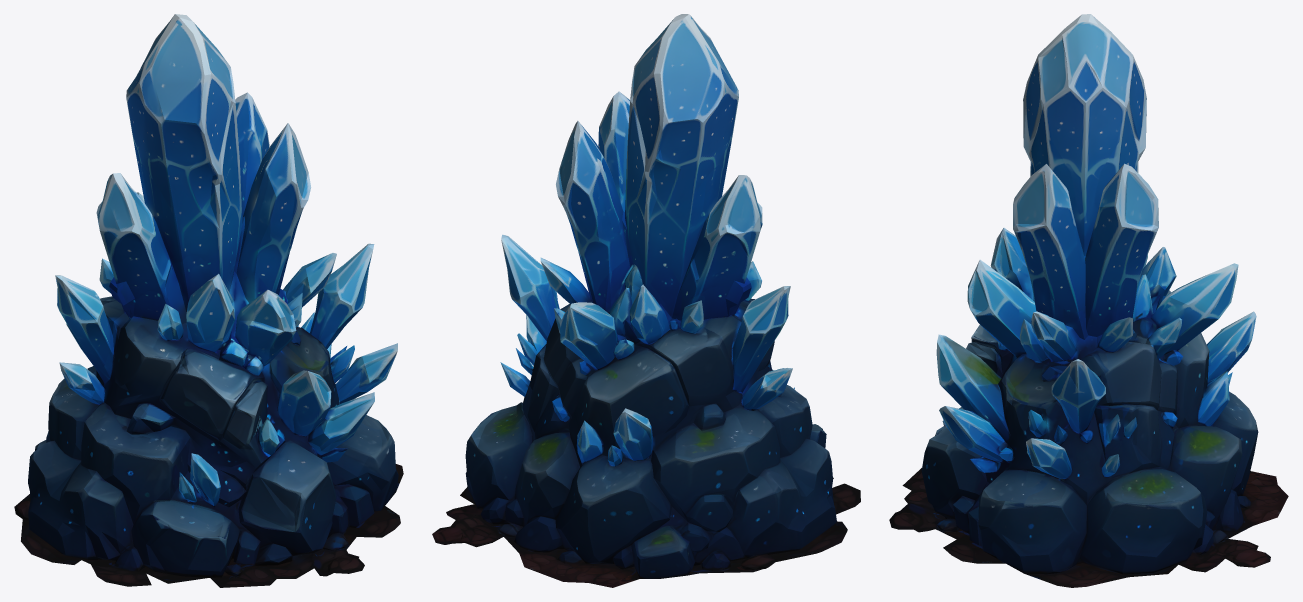
Rendered from SM_Ore21.fbx.
3 views of the same model, side by side, from view 1: azimuth 30°, elevation 25°; view 2: azimuth 150°, elevation 25°; view 3: azimuth 270°, elevation 25° (orthographic). The views are drawn at different scales.
Parts seen in each view (by area): view 1: Ore21; view 2: Ore21; view 3: Ore21.
Boxes of the visible parts, left/top/right/bottom form: Ore21: left=14, top=14, right=403, bottom=587; Ore21: left=432, top=14, right=860, bottom=587; Ore21: left=889, top=14, right=1288, bottom=587.
Bounding box in the file's own units: 154 × 201 × 152.
Materials: 1 (1 with a texture image).
